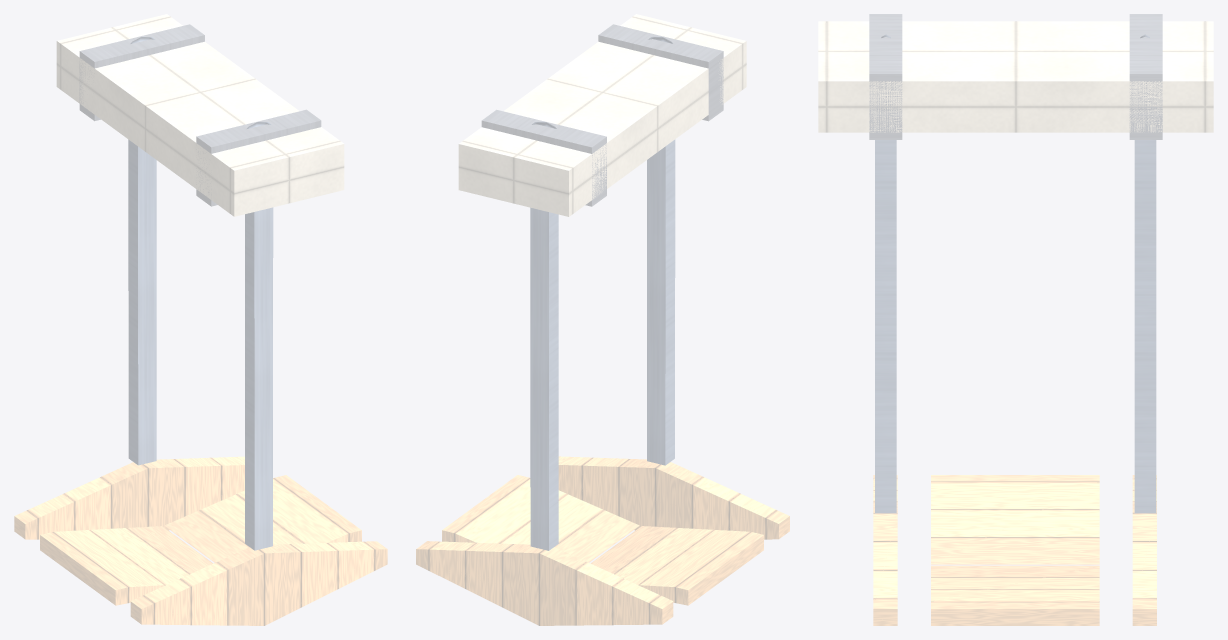
The model's file is level.gltf.
3 views of the same model, side by side, from view 1: azimuth 30°, elevation 25°; view 2: azimuth 150°, elevation 25°; view 3: azimuth 270°, elevation 25° (orthographic). The views are drawn at different scales.
Parts seen in each view (by area): view 1: P_Modul_08_Schaukel, P_Modul_08_Fix; view 2: P_Modul_08_Schaukel, P_Modul_08_Fix; view 3: P_Modul_08_Schaukel, P_Modul_08_Fix.
Boxes of the visible parts, <box> form: P_Modul_08_Schaukel: <box>14,36,387,625</box>; P_Modul_08_Fix: <box>56,14,344,216</box>; P_Modul_08_Schaukel: <box>416,36,789,625</box>; P_Modul_08_Fix: <box>458,14,746,216</box>; P_Modul_08_Schaukel: <box>873,34,1156,625</box>; P_Modul_08_Fix: <box>818,14,1213,139</box>.
Bounding box in the file's own units: 6.7 × 13.01 × 8.37.
Materials: 4 (4 with a texture image).
